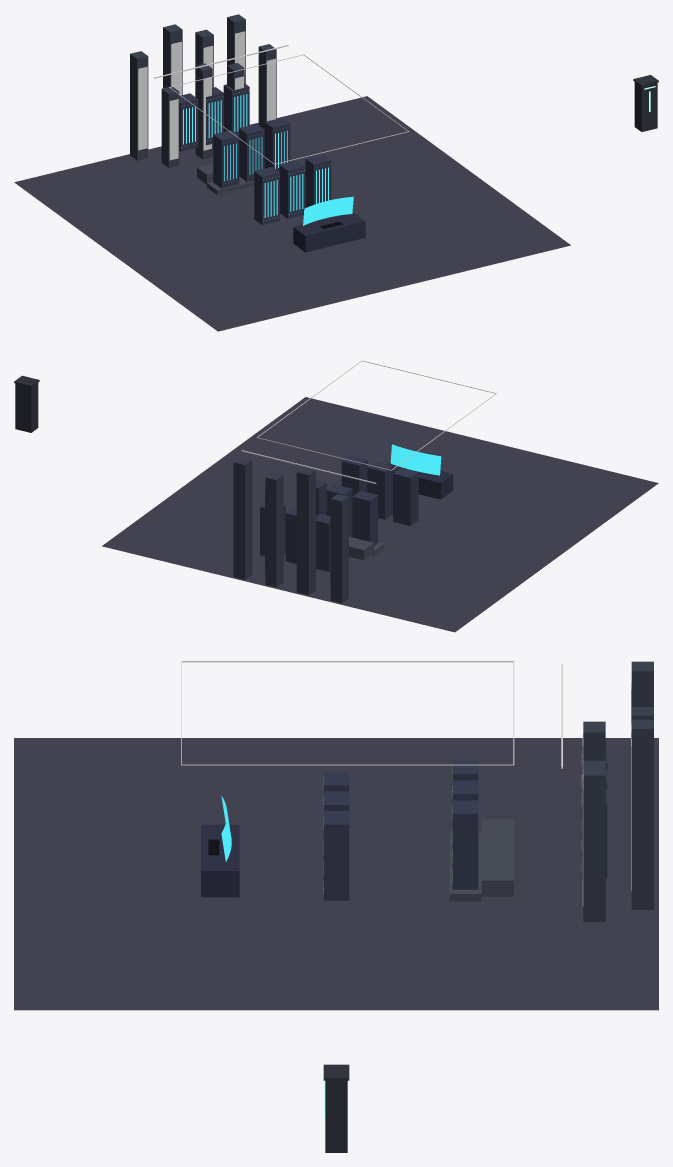
File: server-room-portrait.glb
3 renders of one model, top to bottom at view 1: azimuth 30°, elevation 25°; view 2: azimuth 150°, elevation 25°; view 3: azimuth 270°, elevation 25°, orthographic. The views are drawn at different scales.
Visible parts, largest first — view 1: Floor, Desk, Rack_micromatch, Rack_econos, Rack_ocaml-lob, Rack_staija, BackgroundTower_0, DistantRackBody, Rack_studysprint, Rack_linuxbenchhub, Rack_qforge, BackgroundTower_1 (+12 smaller); view 2: Floor, BackgroundTower_2, BackgroundTower_6, BackgroundTower_4, BackgroundTower_0, Rack_econos, DistantRackBody, Rack_micromatch, Rack_ocaml-lob, Monitor, Desk, Rack_qforge (+5 smaller); view 3: Floor, BackgroundTower_6, BackgroundTower_7, Riser_research, Desk, Rack_qforge, Rack_studysprint, DistantRackBody, BackgroundTower_2, Riser_swe, BackgroundTower_3.
Boxes of the visible parts, left/top/right/bottom form: Floor: left=14, top=96, right=570, bottom=331; Desk: left=293, top=212, right=365, bottom=252; Rack_micromatch: left=213, top=130, right=239, bottom=188; Rack_econos: left=254, top=167, right=279, bottom=225; Rack_ocaml-lob: left=279, top=160, right=305, bottom=218; Rack_staija: left=239, top=124, right=264, bottom=181; BackgroundTower_0: left=130, top=51, right=148, bottom=160; DistantRackBody: left=633, top=75, right=658, bottom=131; Rack_studysprint: left=264, top=117, right=290, bottom=172; Rack_linuxbenchhub: left=223, top=83, right=249, bottom=135; Rack_qforge: left=305, top=154, right=331, bottom=207; BackgroundTower_1: left=161, top=86, right=179, bottom=167; Floor: left=102, top=397, right=658, bottom=632; BackgroundTower_2: left=296, top=467, right=315, bottom=595; BackgroundTower_6: left=233, top=457, right=252, bottom=579; BackgroundTower_4: left=265, top=472, right=283, bottom=587; BackgroundTower_0: left=330, top=494, right=348, bottom=603; Rack_econos: left=393, top=468, right=418, bottom=525; DistantRackBody: left=14, top=375, right=39, bottom=432; Rack_micromatch: left=352, top=490, right=377, bottom=545; Rack_ocaml-lob: left=367, top=461, right=393, bottom=519; Monitor: left=390, top=444, right=441, bottom=475; Desk: left=387, top=461, right=453, bottom=499; Rack_qforge: left=341, top=455, right=367, bottom=496; Floor: left=14, top=738, right=658, bottom=1010; BackgroundTower_6: left=631, top=719, right=653, bottom=909; BackgroundTower_7: left=583, top=767, right=605, bottom=921; Riser_research: left=481, top=819, right=513, bottom=896; Desk: left=201, top=824, right=239, bottom=897; Rack_qforge: left=323, top=811, right=349, bottom=900; Rack_studysprint: left=452, top=800, right=478, bottom=889; DistantRackBody: left=323, top=1064, right=349, bottom=1152; BackgroundTower_2: left=631, top=661, right=653, bottom=706; Riser_swe: left=449, top=832, right=481, bottom=901; BackgroundTower_3: left=583, top=724, right=605, bottom=760.
Bounding box in the file's own units: 30.5 × 6.5 × 20.
